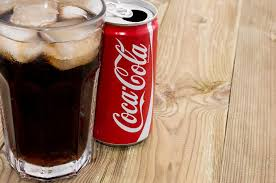can: (100, 1, 160, 149)
